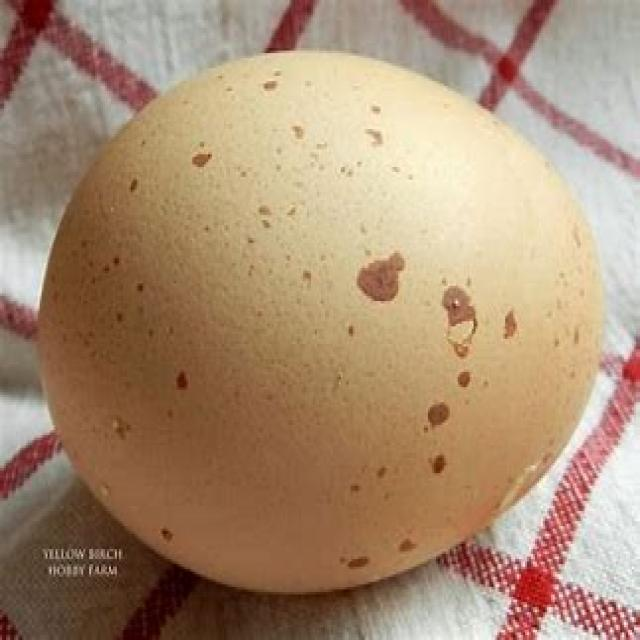Blood Stained Egg: (17, 44, 618, 588)
